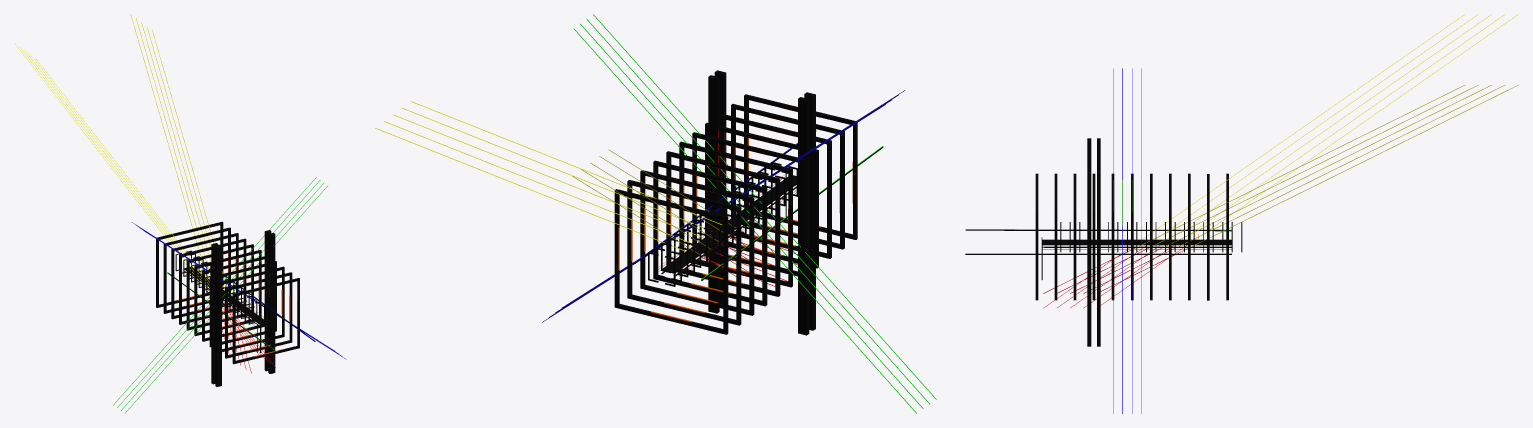
Rendered from bs_map2.glb.
3 views of the same model, side by side, from view 1: azimuth 30°, elevation 25°; view 2: azimuth 150°, elevation 25°; view 3: azimuth 270°, elevation 25° (orthographic). The views are drawn at different scales.
Parts seen in each view (by area): view 1: Highway, Back Lights, Ring.021, Ring.023, Ring.022, Ring.026, Ring.024, Ring.030, Ring.029, Ring.027, Ring.028, Ring.031 (+2 smaller); view 2: Highway, Back Lights, Ring.031, Ring.030, Ring.029, Ring.028, Ring.027, Ring.026, Ring.025, Ring.021, Ring.022, Ring.024 (+6 smaller); view 3: Highway, Back Lights, Center Lights, Ring.021, Ring.022, Ring.023, Ring.024, Ring.025.
Part boxes in pixels (x1,y1,x2,y2): Highway: (167, 230, 315, 386); Back Lights: (14, 14, 228, 293); Ring.021: (232, 278, 299, 364); Ring.023: (217, 266, 284, 352); Ring.022: (225, 272, 292, 358); Ring.026: (194, 250, 261, 335); Ring.024: (209, 261, 276, 347); Ring.030: (163, 227, 230, 313); Ring.029: (171, 233, 238, 319); Ring.027: (186, 244, 253, 330); Ring.028: (179, 238, 246, 324); Ring.031: (156, 221, 223, 307); Highway: (634, 70, 883, 335); Back Lights: (375, 101, 735, 255); Ring.031: (614, 189, 728, 334); Ring.030: (627, 180, 741, 325); Ring.029: (640, 170, 754, 315); Ring.028: (653, 160, 767, 306); Ring.027: (666, 151, 780, 296); Ring.026: (679, 141, 792, 287); Ring.025: (692, 132, 805, 277); Ring.021: (744, 94, 857, 239); Ring.022: (731, 104, 844, 249); Ring.024: (705, 122, 818, 268); Highway: (965, 138, 1231, 346); Back Lights: (1138, 14, 1518, 246); Center Lights: (1043, 234, 1198, 308); Ring.021: (1035, 173, 1038, 300); Ring.022: (1054, 173, 1057, 300); Ring.023: (1073, 173, 1076, 300); Ring.024: (1092, 173, 1095, 300); Ring.025: (1111, 173, 1114, 300).
Size of the model in its own units: 167 by 172 by 290.
